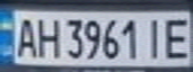1: (118, 16, 142, 60)
3: (60, 15, 84, 60)
6: (100, 16, 121, 60)
9: (81, 16, 103, 61)
A: (12, 15, 39, 58)
E: (160, 15, 193, 61)
H: (33, 14, 60, 58)
I: (139, 15, 169, 60)
